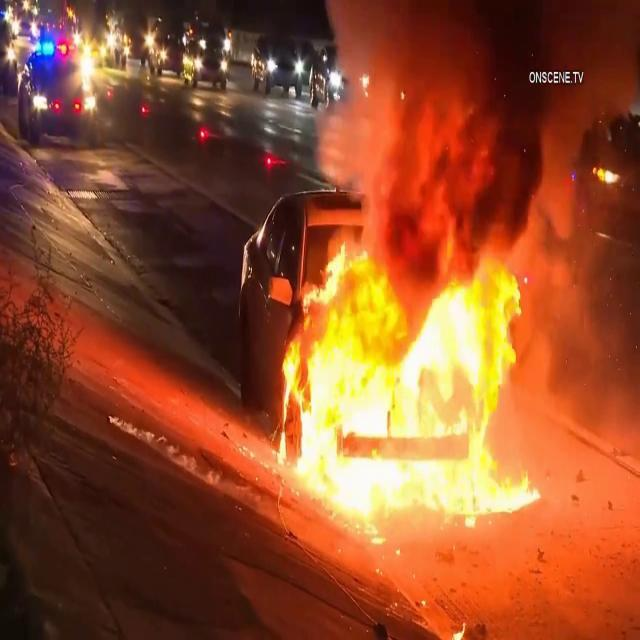Fire: (280, 272, 548, 529)
Smoke: (296, 0, 640, 281)
